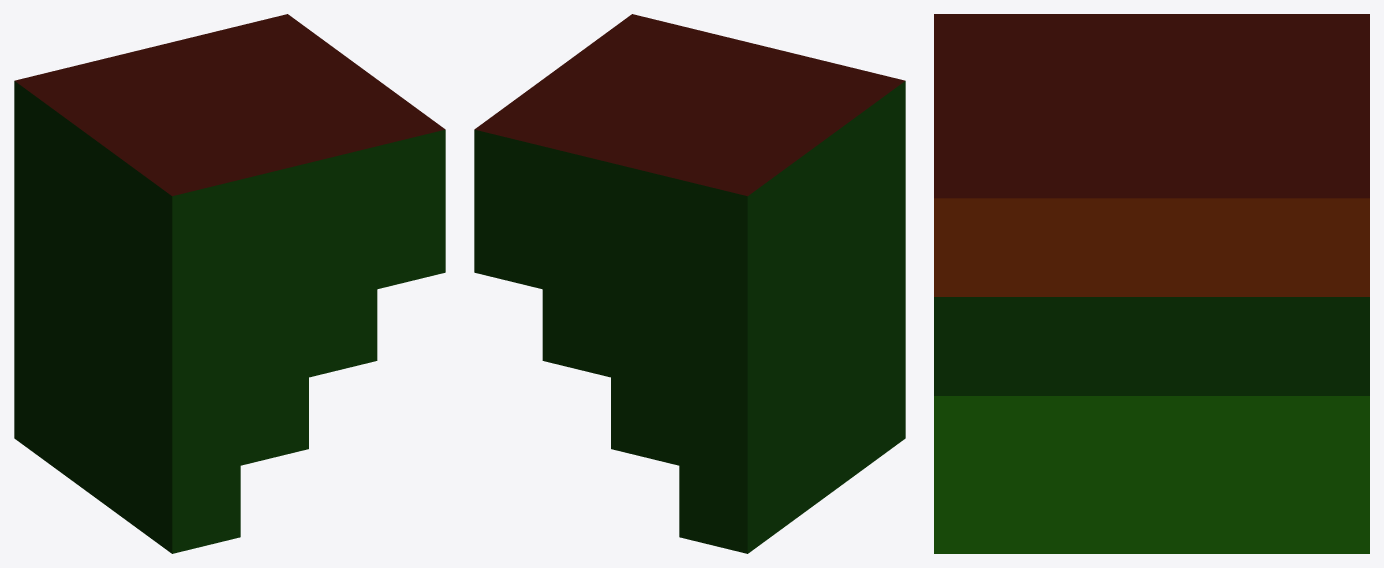
Rendered from block_22.fbx.
The picture shows the model from 3 angles, left to right: view 1: azimuth 30°, elevation 25°; view 2: azimuth 150°, elevation 25°; view 3: azimuth 270°, elevation 25°; orthographic projection. The views are drawn at different scales.
Visible parts, largest first — view 1: box.007; view 2: box.007; view 3: box.007.
Boxes of the visible parts, <box> form: box.007: <box>14,14,445,553</box>; box.007: <box>474,14,905,553</box>; box.007: <box>934,14,1369,553</box>.
Size of the model in its own units: 400 by 500 by 400.
